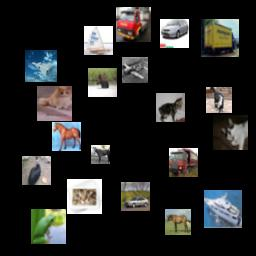airplane: (25, 50, 57, 82), (122, 57, 148, 83)
automobile: (160, 19, 189, 48), (121, 182, 150, 211)
bird: (22, 156, 51, 185)
cat: (37, 86, 72, 121), (67, 179, 102, 214), (213, 115, 248, 150), (156, 93, 185, 122), (206, 87, 232, 113)
deer: (88, 68, 117, 97)
frog: (31, 209, 66, 244)
ship: (204, 190, 242, 228), (84, 26, 113, 55)
truck: (201, 19, 239, 57), (116, 7, 151, 42), (169, 148, 198, 177)
